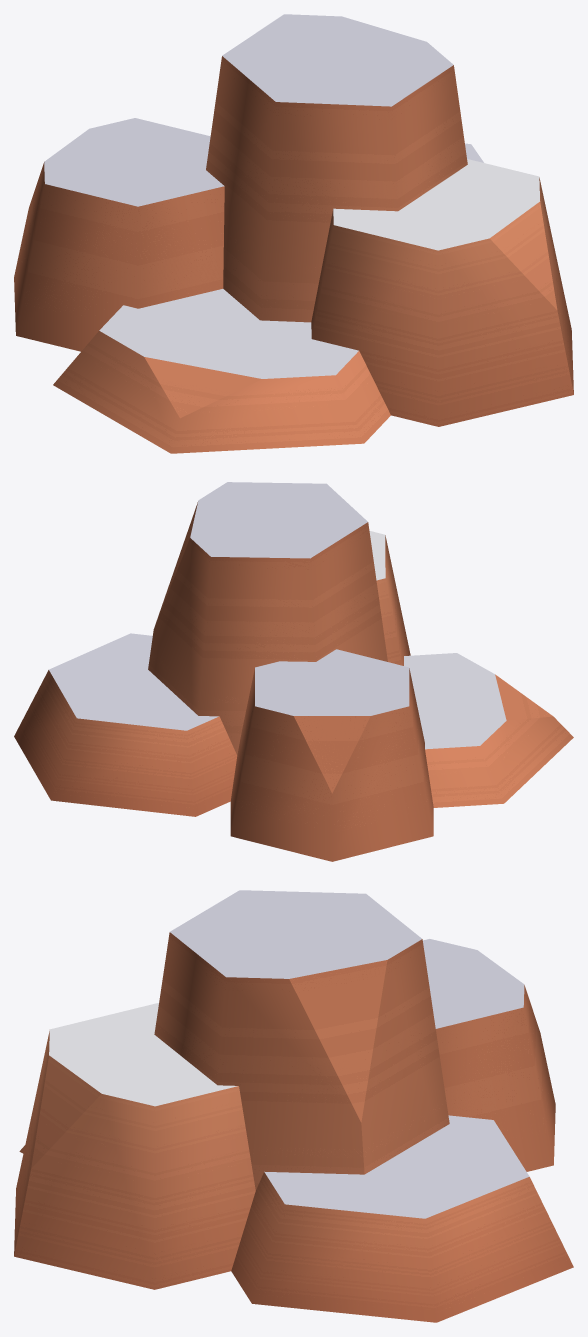
File: snow-detail-dirt-large.glb
3 views of the same model, one above another, from view 1: azimuth 30°, elevation 25°; view 2: azimuth 150°, elevation 25°; view 3: azimuth 270°, elevation 25° (orthographic). The views are drawn at different scales.
Visible parts, largest first — view 1: snow-detail-dirt-large; view 2: snow-detail-dirt-large; view 3: snow-detail-dirt-large.
Boxes of the visible parts, bbox=[...] form: snow-detail-dirt-large: bbox=[14, 14, 573, 453]; snow-detail-dirt-large: bbox=[14, 482, 573, 861]; snow-detail-dirt-large: bbox=[14, 890, 573, 1322].
Bounding box in the file's own units: 2.56 × 1.24 × 2.34.
Materials: 1 (1 with a texture image).
